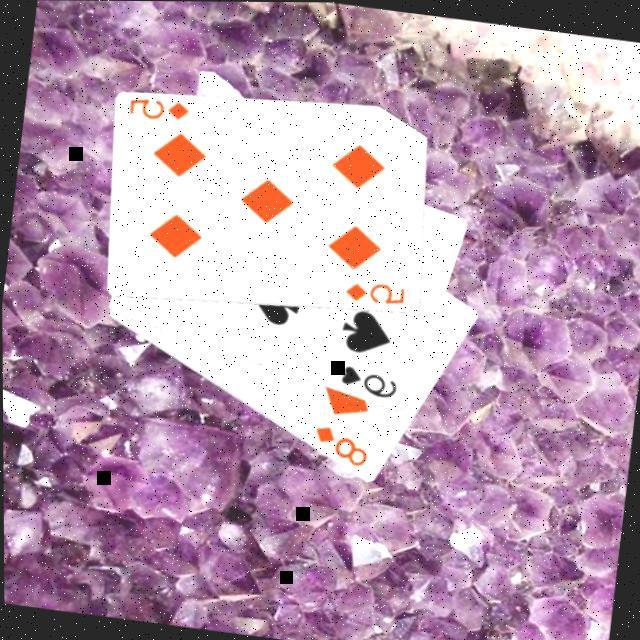5D: (126, 92, 194, 128), (342, 276, 410, 310)
6S: (335, 361, 403, 403)
8D: (309, 422, 374, 471)
